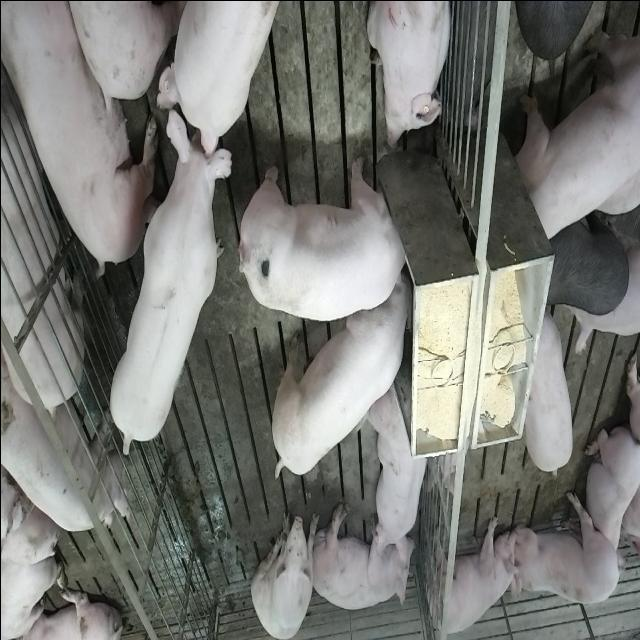Feeding: (266, 274, 412, 480), (242, 153, 416, 321)
Lateral_lying: (4, 0, 158, 273), (308, 500, 416, 611)
Sitting: (250, 502, 314, 637)
Standing: (108, 102, 234, 454), (0, 48, 87, 418), (514, 17, 638, 245), (0, 361, 124, 537), (150, 0, 284, 154), (508, 489, 620, 608), (430, 509, 518, 636), (524, 309, 576, 480), (544, 212, 627, 316)
Sternal_lying: (366, 0, 454, 150), (367, 377, 432, 555), (584, 423, 638, 561)
